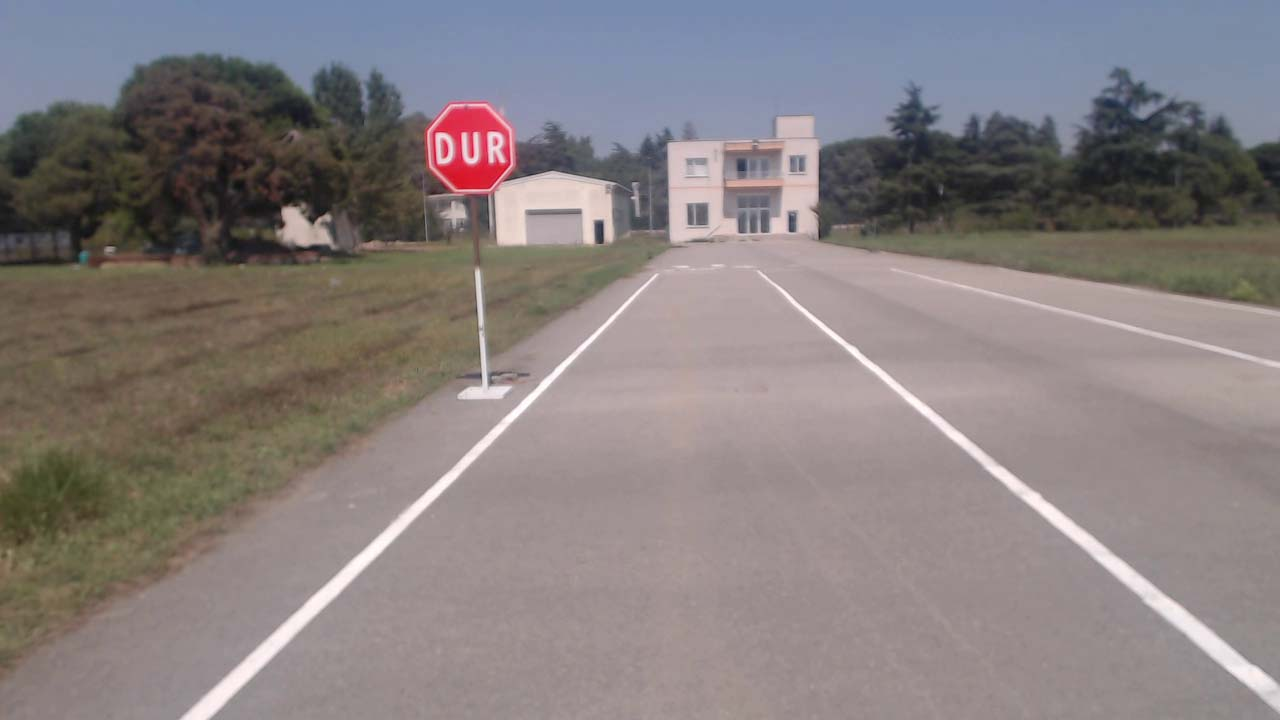arac_dur_isareti: (328, 49, 922, 320), (380, 90, 553, 304)
